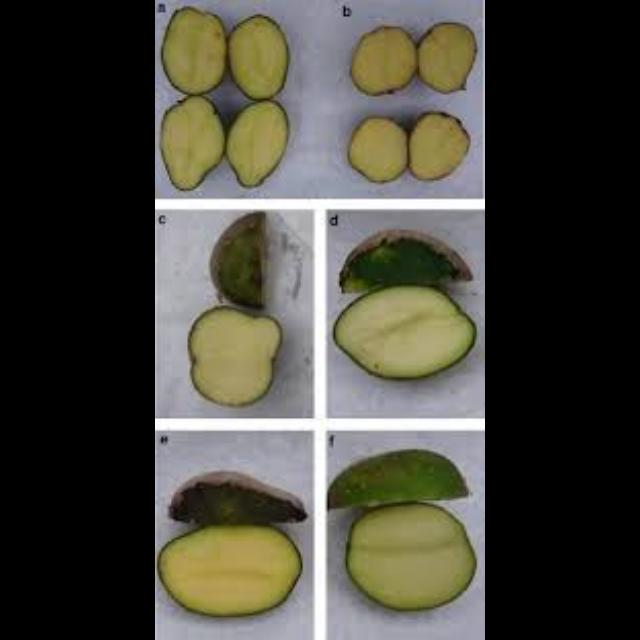Damaged potato: (156, 446, 314, 620), (176, 210, 310, 412), (333, 226, 482, 396)
Defected potato: (317, 438, 485, 614)
